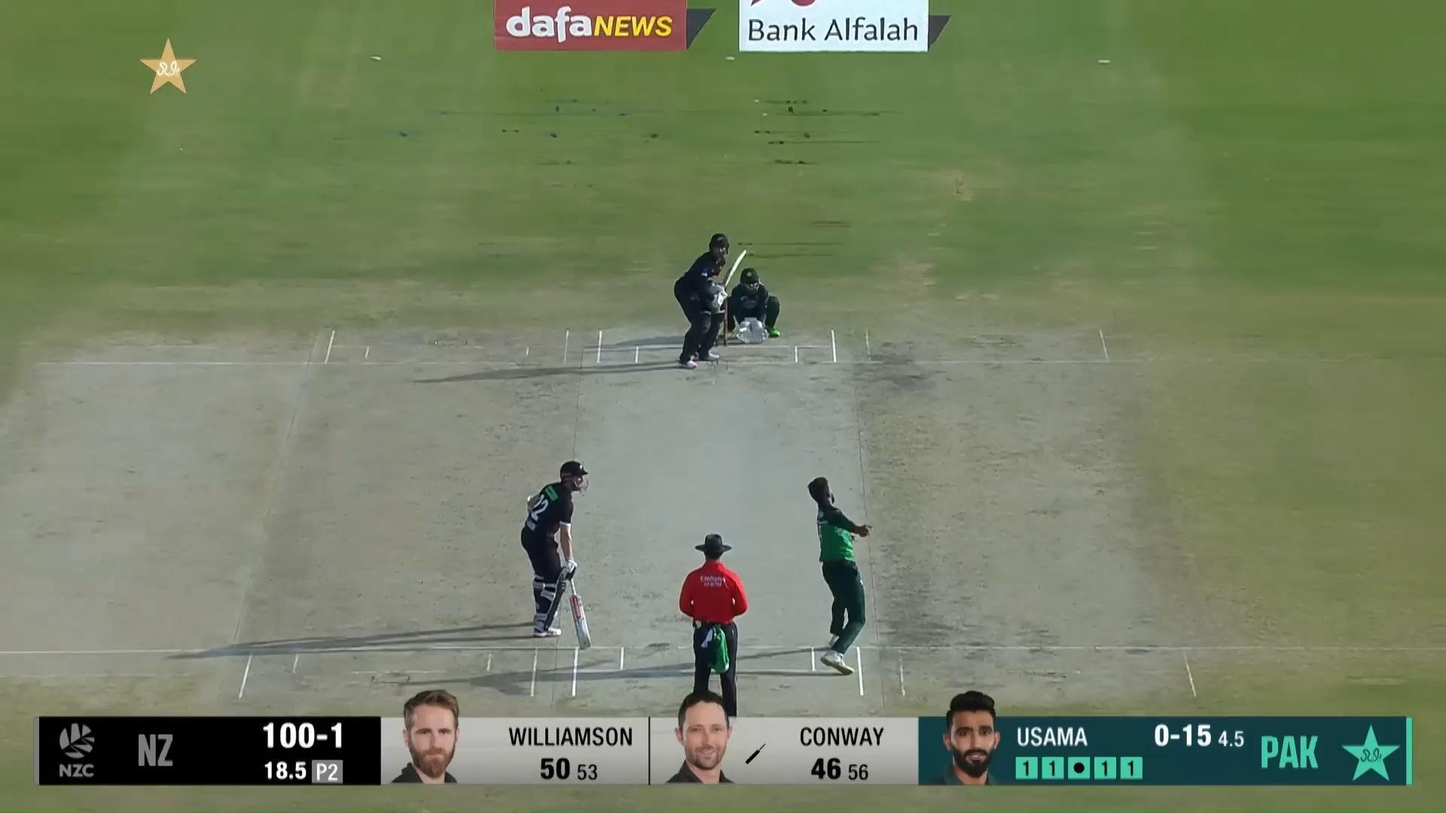BM 1: (674, 233, 747, 370)
BO: (809, 477, 872, 673)
